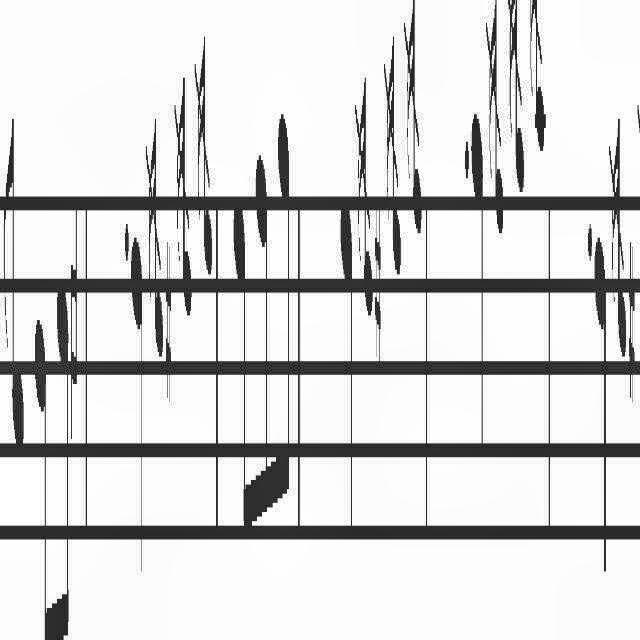Diez: (164, 239, 174, 415), (628, 236, 636, 408), (374, 207, 382, 365)
Eighth-note: (2, 112, 26, 460), (232, 187, 250, 556), (34, 300, 52, 640), (277, 98, 291, 530), (56, 268, 72, 640), (257, 148, 269, 552)
Quarter-note: (130, 232, 146, 584), (471, 102, 485, 464), (593, 228, 607, 588), (341, 186, 354, 552)
